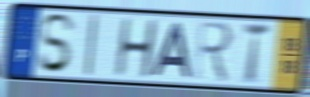A: (150, 21, 193, 80)
H: (112, 17, 159, 80)
I: (82, 13, 100, 79)
R: (192, 19, 235, 86)
S: (36, 13, 78, 76)
T: (241, 21, 273, 86)
